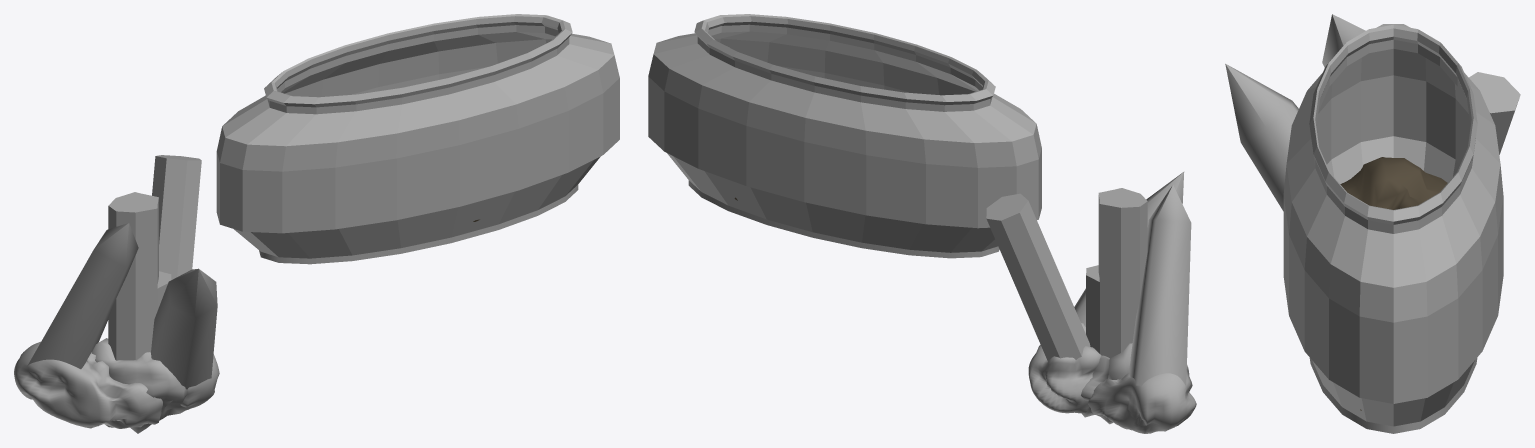
The model's file is full fish tank for painting 8 2.fbx.
3 renders of one model, left to right at view 1: azimuth 30°, elevation 25°; view 2: azimuth 150°, elevation 25°; view 3: azimuth 270°, elevation 25°, orthographic. The views are drawn at different scales.
Parts seen in each view (by area): view 1: pCylinder1, IV_gem:Gem4; view 2: pCylinder1, IV_gem:Gem4; view 3: pCylinder1, IV_gem:Gem4, Rock_fish_Retopoed:Dirt.
Part boxes in pixels (left/top/right/bottom): pCylinder1: left=216, top=14, right=619, bottom=264; IV_gem:Gem4: left=14, top=155, right=219, bottom=433; pCylinder1: left=648, top=14, right=1041, bottom=258; IV_gem:Gem4: left=986, top=171, right=1196, bottom=433; pCylinder1: left=1283, top=24, right=1503, bottom=433; IV_gem:Gem4: left=1225, top=14, right=1520, bottom=211; Rock_fish_Retopoed:Dirt: left=1340, top=157, right=1447, bottom=410.
Bounding box in the file's own units: 27.59 × 13.84 × 9.34.
